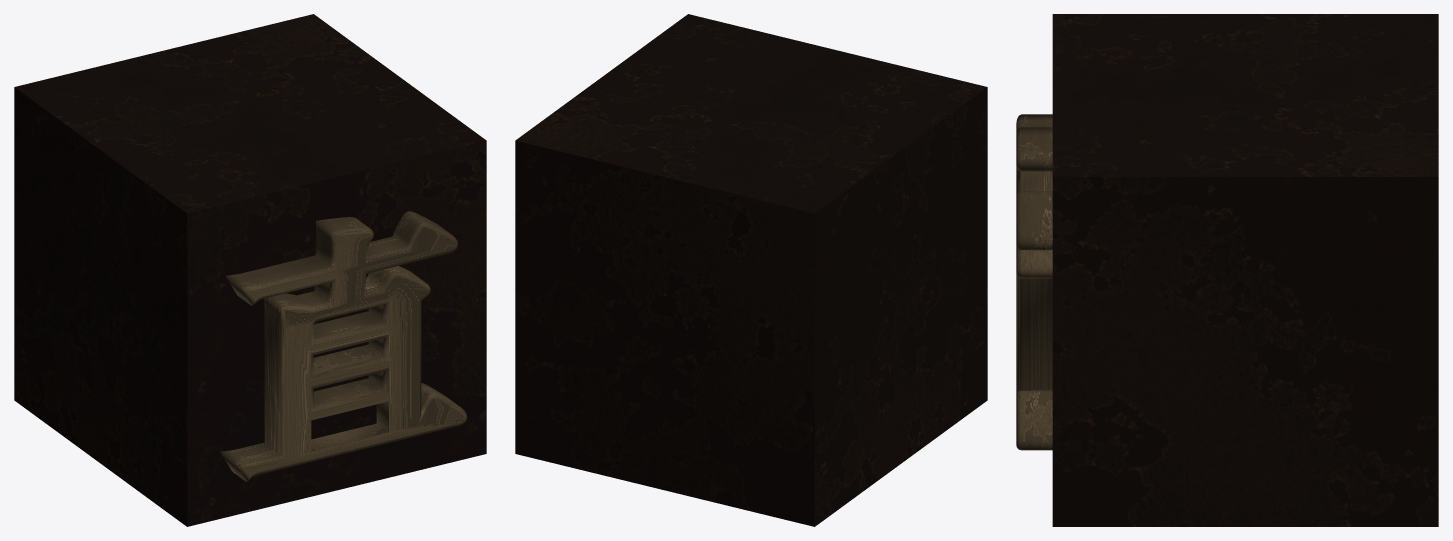
File: process-step-04-single-metal-type.glb
3 views of the same model, side by side, from view 1: azimuth 30°, elevation 25°; view 2: azimuth 150°, elevation 25°; view 3: azimuth 270°, elevation 25° (orthographic). The views are drawn at different scales.
Parts seen in each view (by area): view 1: metal_type_02; view 2: metal_type_02; view 3: metal_type_02.
Part boxes in pixels (bbox=[...]): metal_type_02: bbox=[14, 14, 486, 526]; metal_type_02: bbox=[515, 14, 987, 526]; metal_type_02: bbox=[1016, 14, 1438, 526].
Bounding box in the file's own units: 0.085 × 0.085 × 0.093.
Materials: 2 (2 with a texture image).
